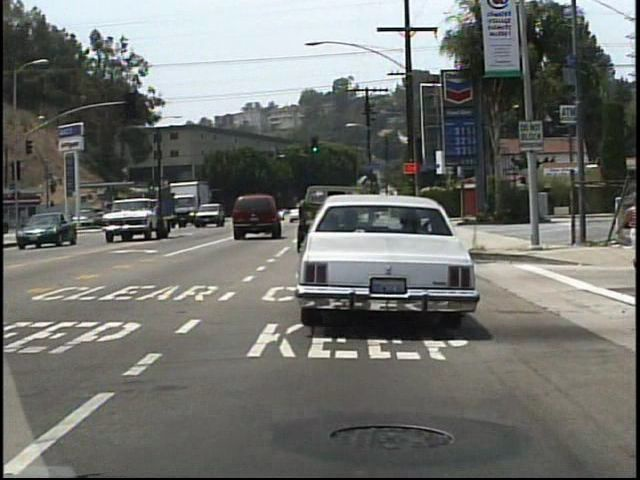person: (613, 192, 638, 269)
